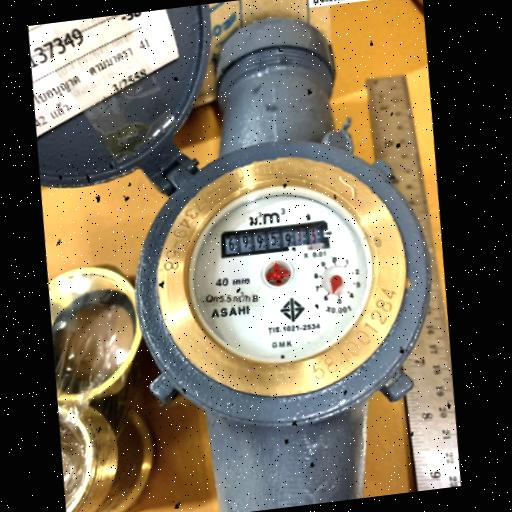3: (295, 227, 306, 245)
5: (268, 230, 281, 250), (308, 225, 321, 244)
6: (225, 235, 238, 254)
9: (240, 233, 253, 253), (254, 231, 267, 251), (283, 228, 294, 247)
border_water_meter_number: (220, 220, 332, 261)
